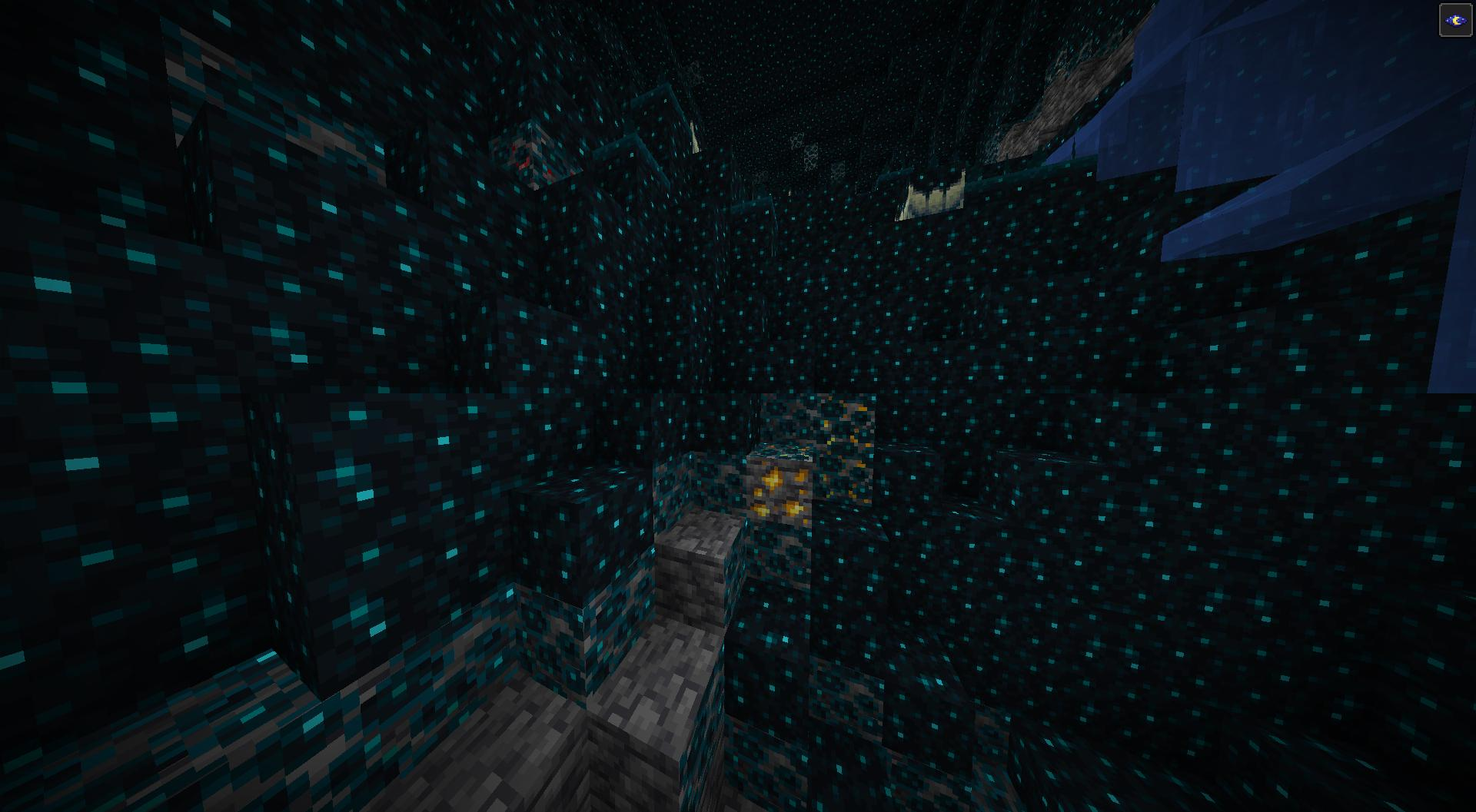gold ore: (749, 462, 812, 523)
